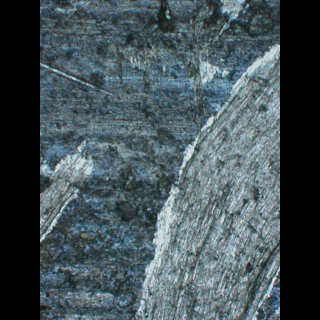d: (130, 36, 279, 320), (139, 0, 246, 99), (40, 135, 97, 249)
